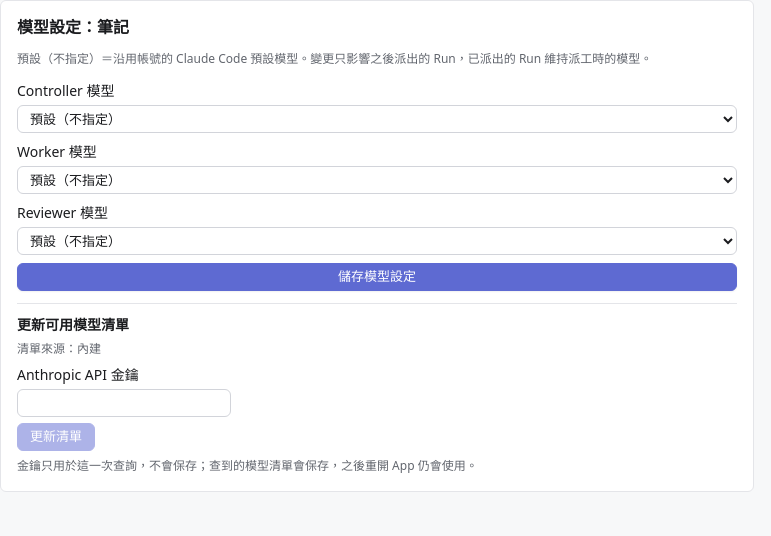
Test case: 模型設定 › 以 API 金鑰更新可用模型清單 › 金鑰無效或連不上時顯示錯誤、原清單與來源不變，金鑰欄位仍清空
Expected: the dropdown labelled "Worker 模型" is shown, left=17, top=166, right=737, bottom=194
Type "sk-ant-api03-test-key" into the password field labelled "Anthropic API 金鑰" at x=124, y=403, box left=17, top=389, right=231, bottom=417
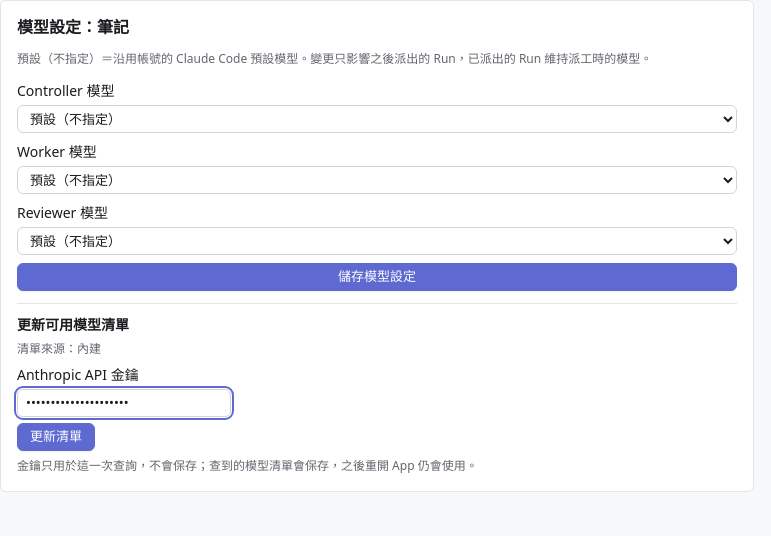
Click the button "更新清單" at x=56, y=437, box left=17, top=423, right=95, bottom=451
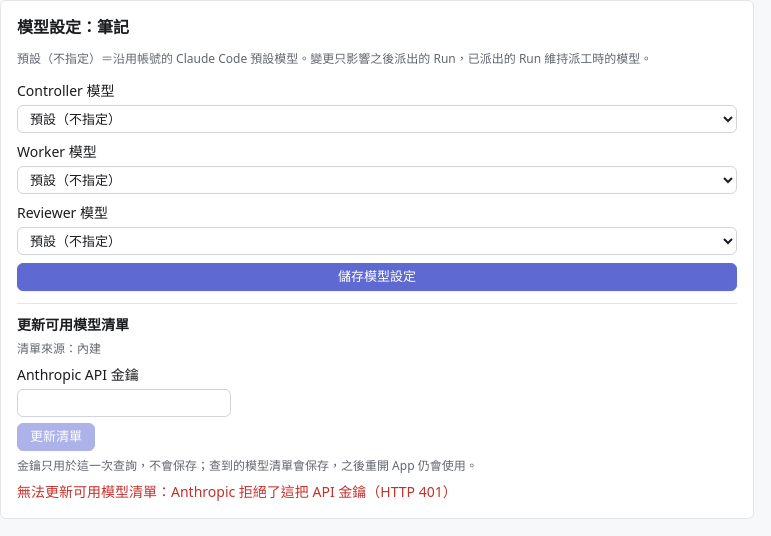
Expected: the text "清單來源：內建" is shown, left=17, top=340, right=101, bottom=357
Now the message reads "無法更新可用模型清單：Anthropic 拒絕了這把 API 金鑰（HTTP 401）", box left=17, top=482, right=457, bottom=501
Now the password field labelled "Anthropic API 金鑰" is empty, box left=17, top=389, right=231, bottom=417
